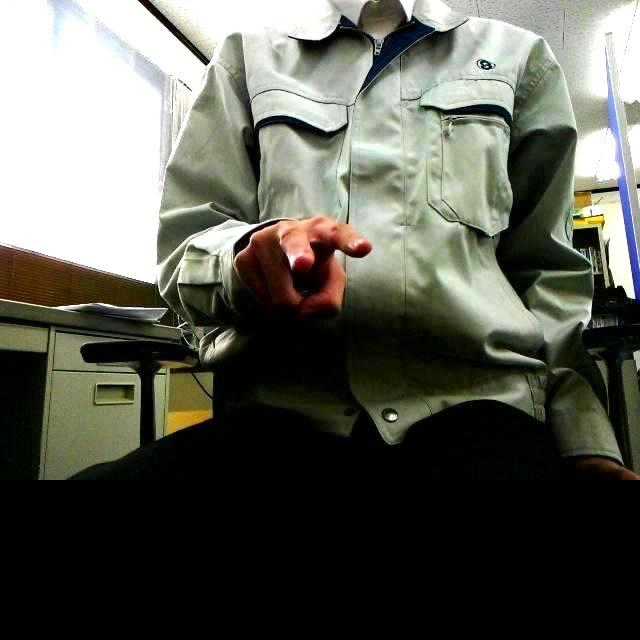tyoki: (236, 215, 374, 326)
